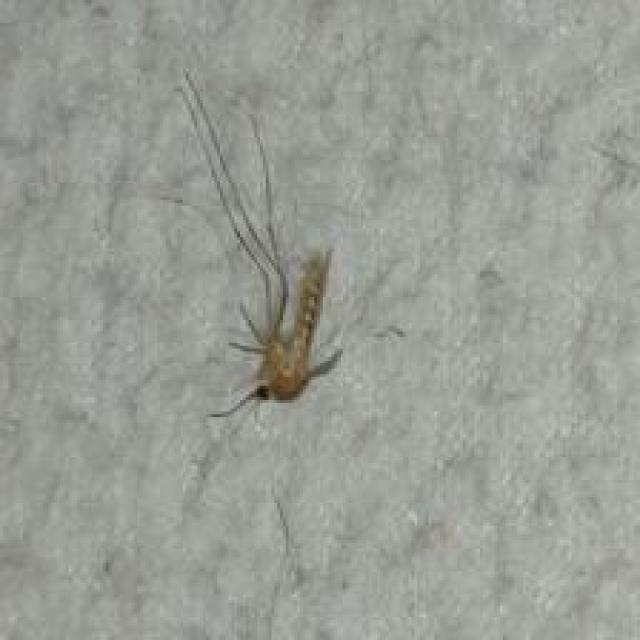Culex: (171, 67, 346, 422)
